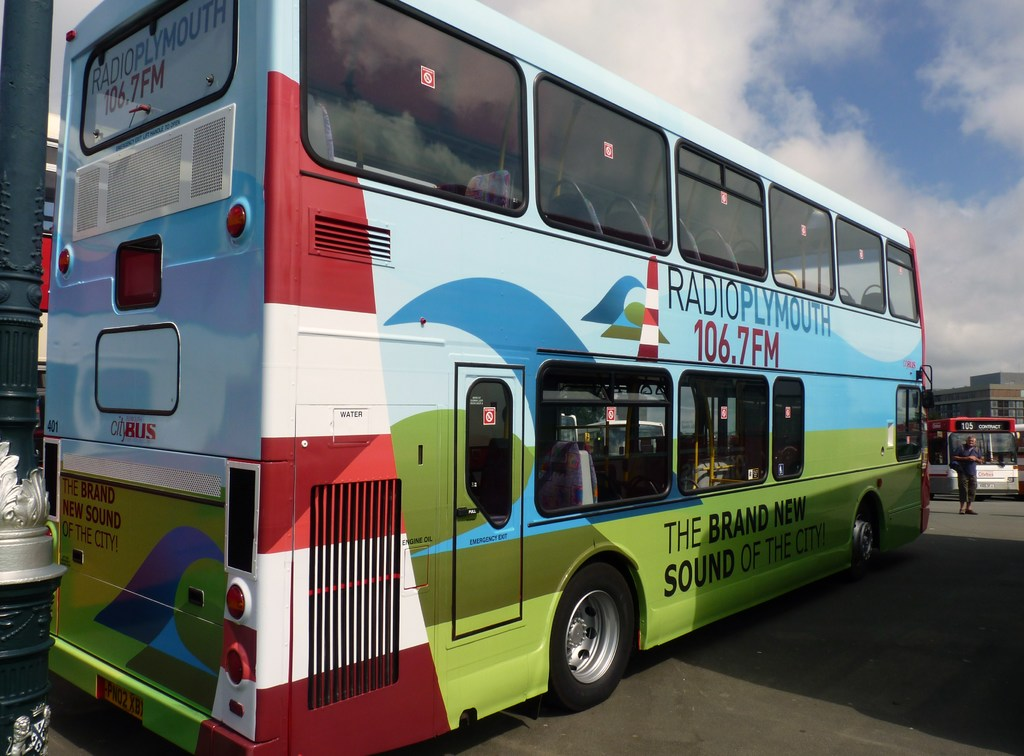Bus: (46, 0, 934, 755), (39, 104, 71, 472), (922, 412, 1016, 490), (589, 419, 673, 451), (559, 414, 590, 448)
